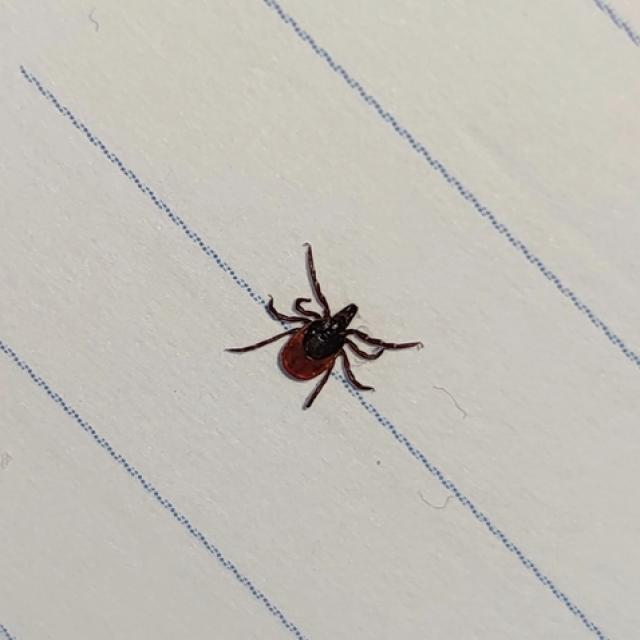Ixodes Ricinus-F: (226, 243, 423, 411)
